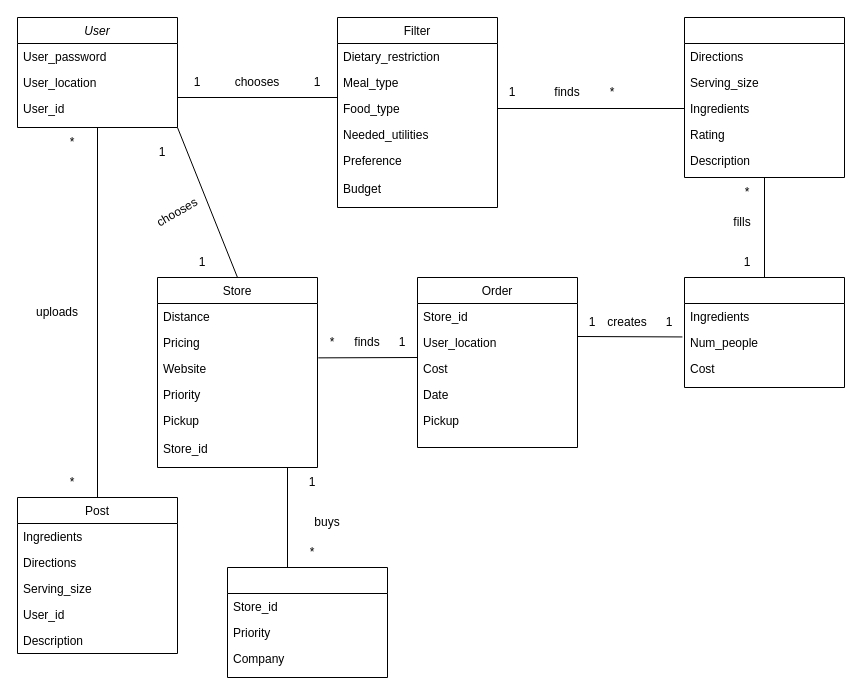
The diagram is 862 pixels wide and 695 high, and some of its shapes have lost their labels. Each missing label, with the box of its shape:
Cart: (684, 276, 844, 388)
Recipe: (684, 16, 844, 178)
Sponsor: (226, 566, 388, 678)
